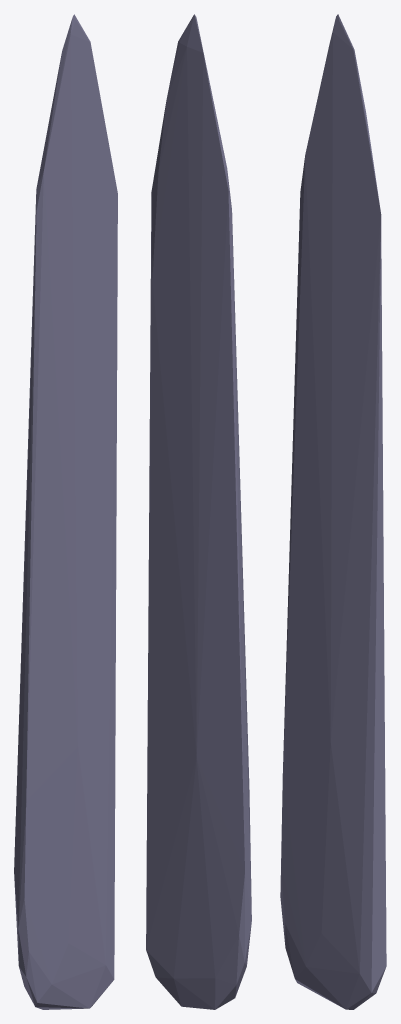
File: kitchenware_knife_u01.glb
3 views of the same model, side by side, from view 1: azimuth 30°, elevation 25°; view 2: azimuth 150°, elevation 25°; view 3: azimuth 330°, elevation 25° (orthographic).
Visible parts, largest first — view 1: geometry_0; view 2: geometry_0; view 3: geometry_0.
Part boxes in pixels (x1,y1,x2,y2): geometry_0: [14, 14, 117, 1009]; geometry_0: [146, 14, 251, 1009]; geometry_0: [280, 14, 386, 1009].
Bounding box in the file's own units: 0.0502 × 0.476 × 0.0108.
